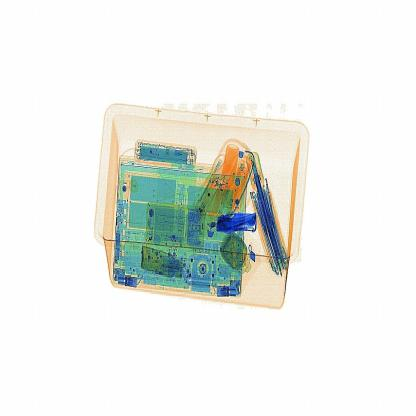knife: (209, 209, 264, 241)
